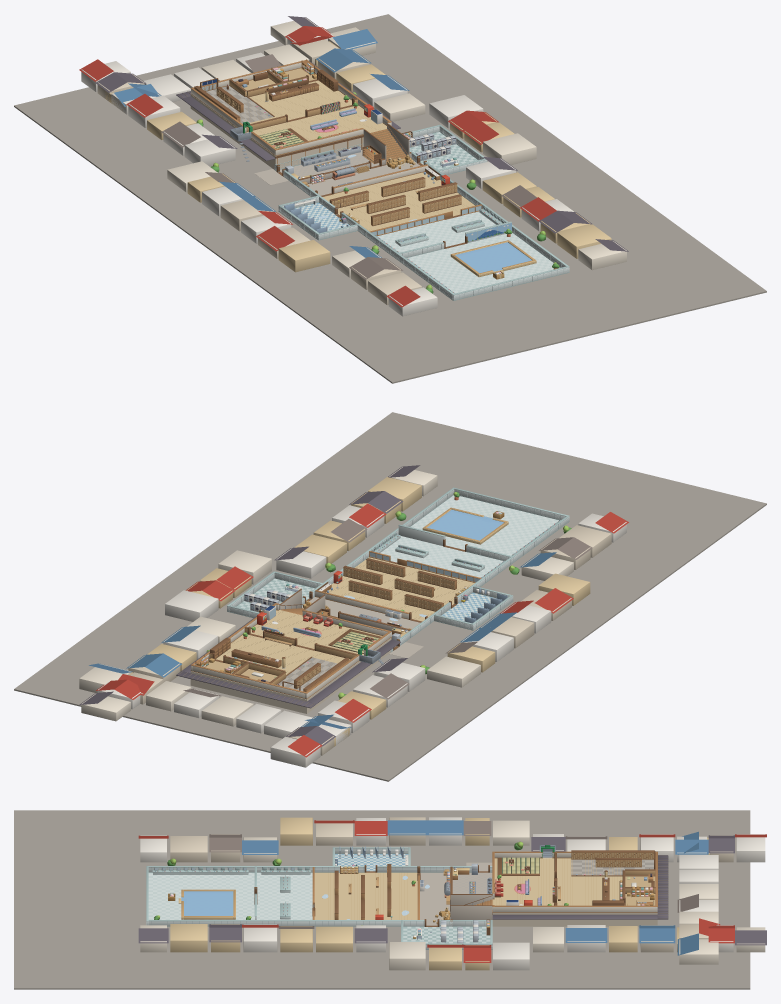
Rendered from bathhouse_kit.glb.
3 renders of one model, top to bottom at view 1: azimuth 30°, elevation 25°; view 2: azimuth 150°, elevation 25°; view 3: azimuth 270°, elevation 25°, orthographic. The views are drawn at different scales.
Visible parts, largest first — view 1: FLOORS, BUILDING, DETAILS, WATER; view 2: FLOORS, BUILDING, DETAILS, WATER; view 3: FLOORS, BUILDING, DETAILS, WATER.
Boxes of the visible parts, bbox=[...] form: FLOORS: bbox=[14, 14, 766, 383]; BUILDING: bbox=[190, 59, 569, 300]; DETAILS: bbox=[200, 63, 503, 272]; WATER: bbox=[455, 242, 531, 273]; FLOORS: bbox=[14, 412, 766, 781]; BUILDING: bbox=[190, 487, 569, 699]; DETAILS: bbox=[201, 539, 468, 690]; WATER: bbox=[427, 509, 503, 540]; FLOORS: bbox=[14, 810, 766, 989]; BUILDING: bbox=[146, 845, 657, 949]; DETAILS: bbox=[178, 845, 655, 926]; WATER: bbox=[181, 891, 233, 915].
Size of the model in its own units: 80 by 6.3 by 143.
Materials: 2 (2 with a texture image).
